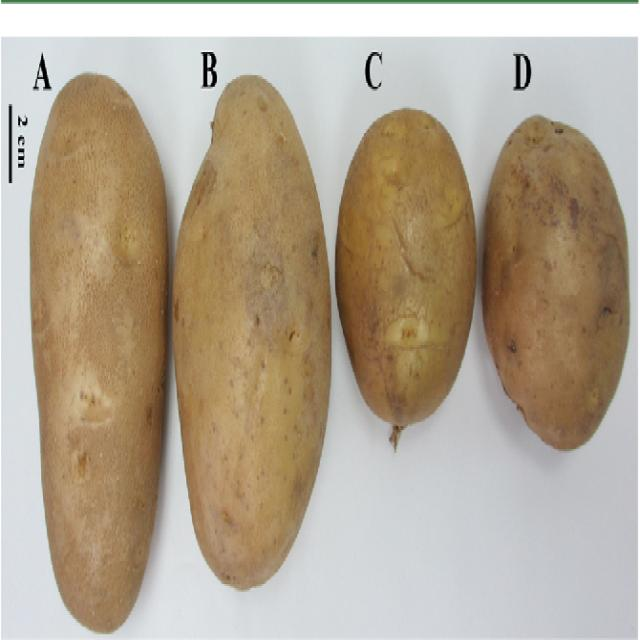potato: (172, 75, 331, 588), (32, 73, 169, 632), (482, 116, 630, 449)
